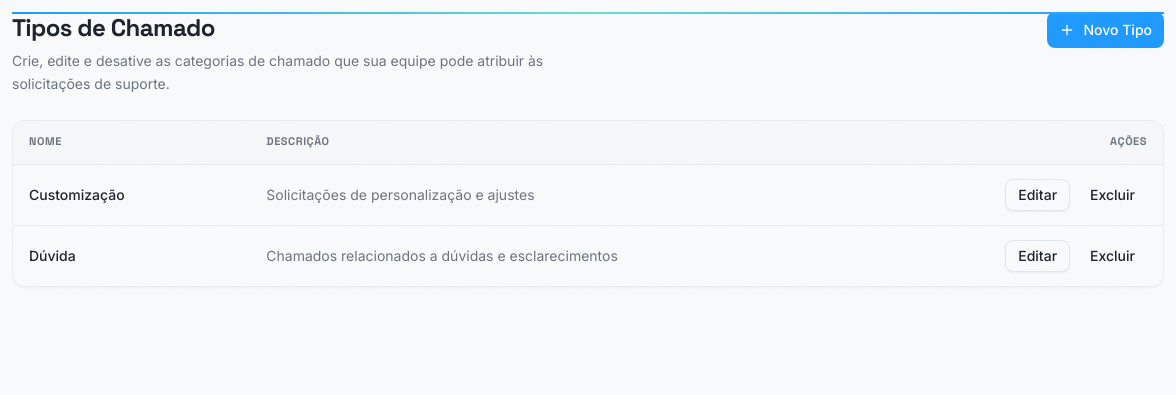
Test: TicketTypesPage › shows an inline validation error when the new name is empty
The width and height of the screenshot is (1176, 395).
Click the button "Novo Tipo" at (1106, 30), box x1=1048 y1=12 x2=1164 y2=48
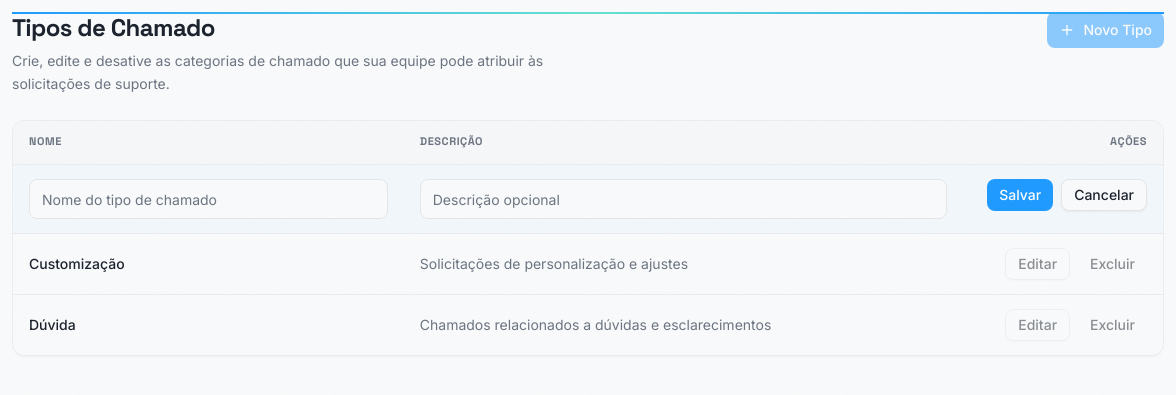
Click the button "Salvar" at (1020, 195), box x1=987 y1=179 x2=1053 y2=211
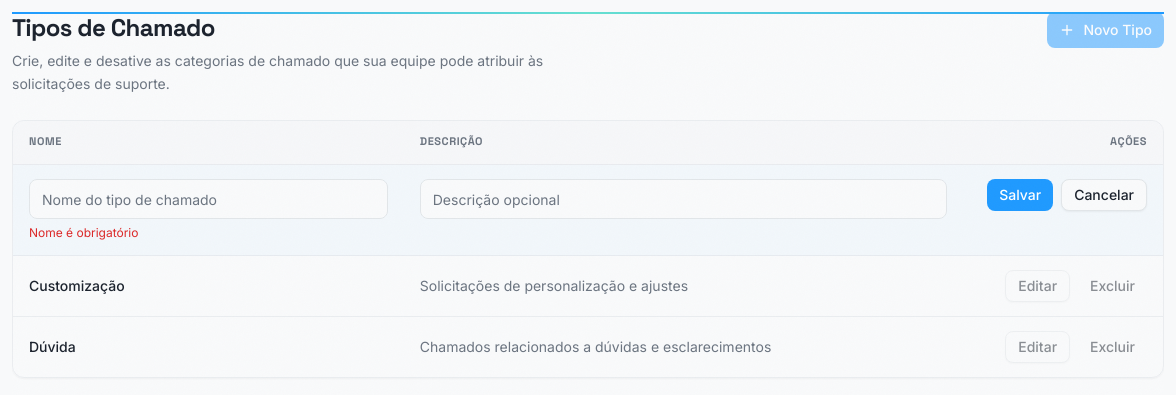
Expected: the text "Nome é obrigatório" is shown, x1=29 y1=225 x2=138 y2=240
